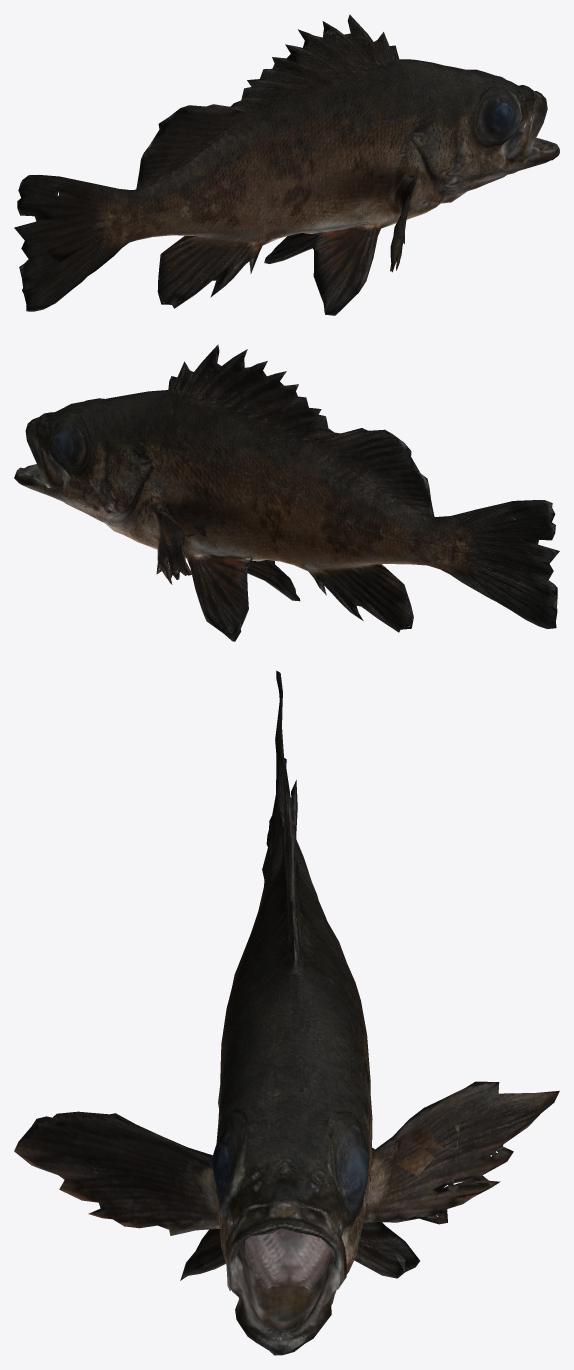
Rendered from scan_rockfish_black.glb.
The picture shows the model from 3 angles, top to bottom: view 1: azimuth 30°, elevation 25°; view 2: azimuth 150°, elevation 25°; view 3: azimuth 270°, elevation 25°; orthographic projection. The views are drawn at different scales.
Parts seen in each view (by area): view 1: scan_rockfish_black; view 2: scan_rockfish_black; view 3: scan_rockfish_black.
Boxes of the visible parts, bbox=[...] form: scan_rockfish_black: bbox=[14, 14, 559, 315]; scan_rockfish_black: bbox=[14, 344, 559, 641]; scan_rockfish_black: bbox=[14, 670, 559, 1355].
Bounding box in the file's own units: 0.4514 × 0.2136 × 0.2097.
1 material, 1 textured.
